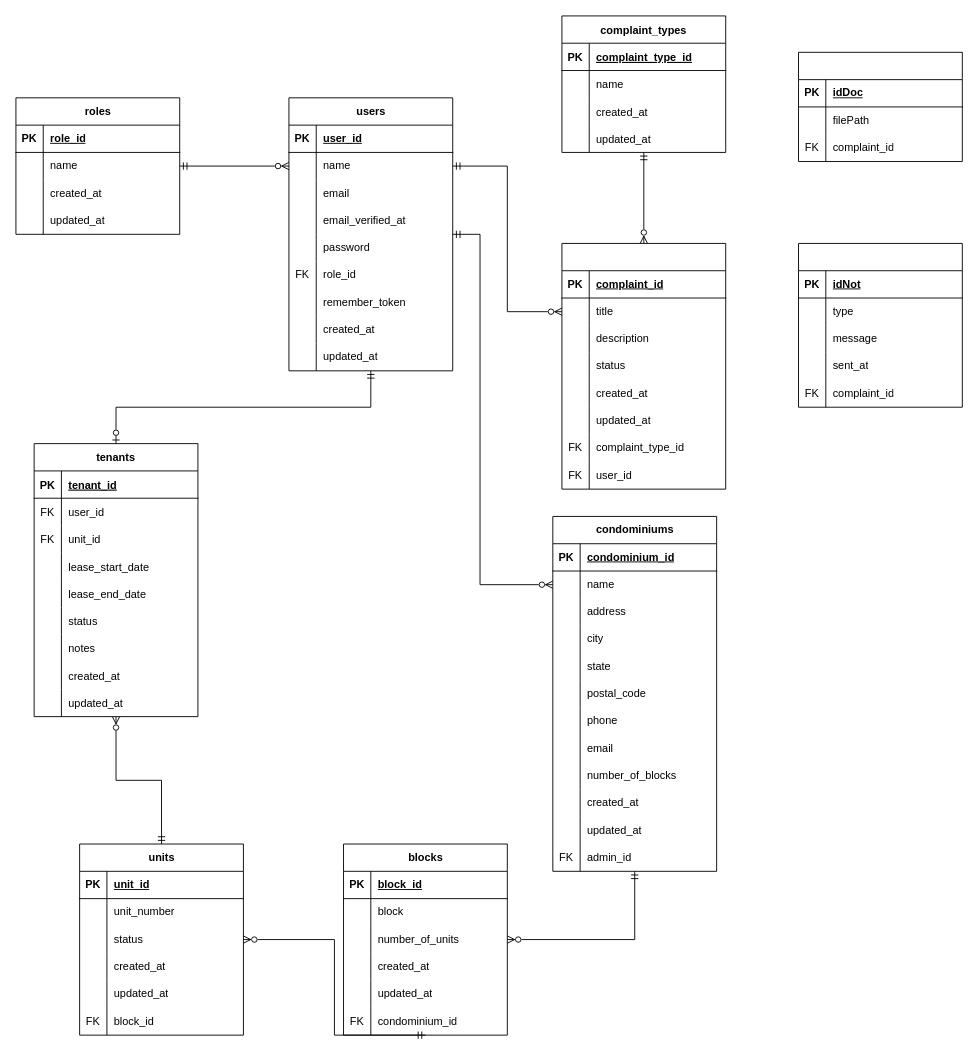
This 978x1059 diagram has some shape labels left out. Each missing label, with the box of its shape:
complaints: (561, 243, 726, 489)
documents: (798, 51, 962, 162)
notifications: (798, 243, 962, 407)
